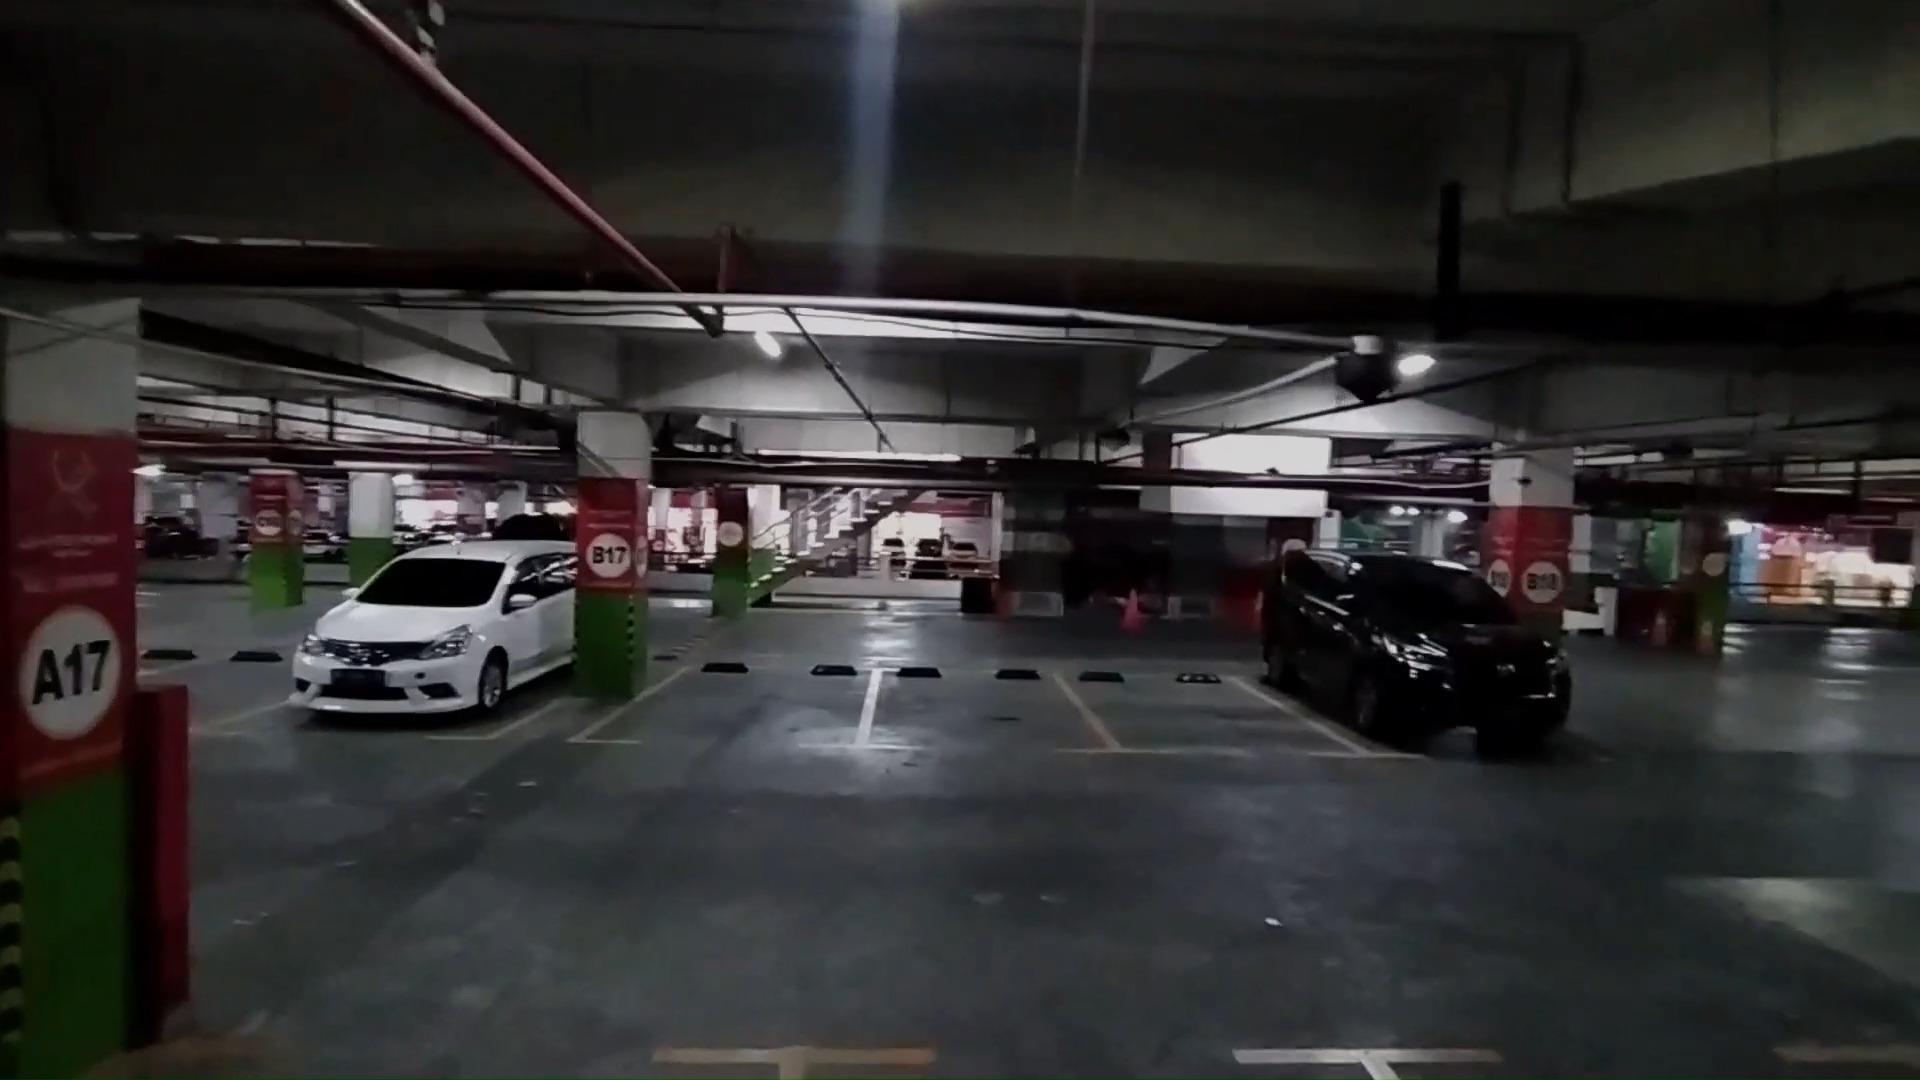empty: (607, 655, 870, 753), (859, 659, 1097, 758), (1084, 661, 1306, 757)
occupied: (1266, 590, 1593, 761), (286, 560, 571, 743)
